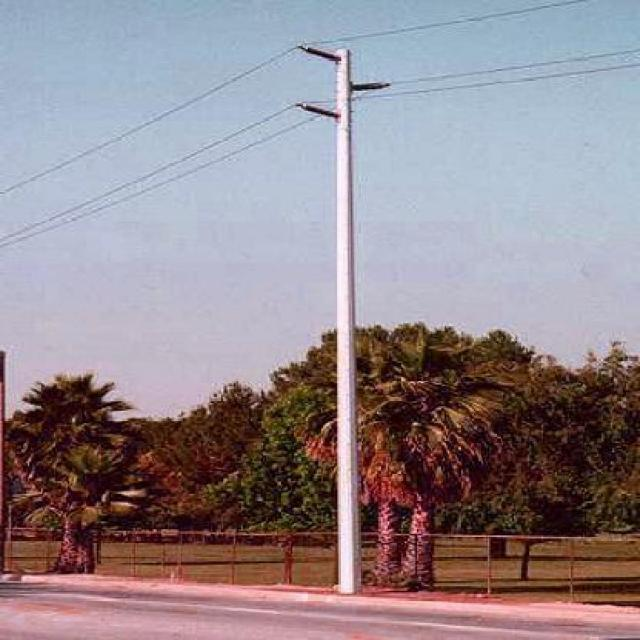light_pole: (280, 44, 410, 596)
